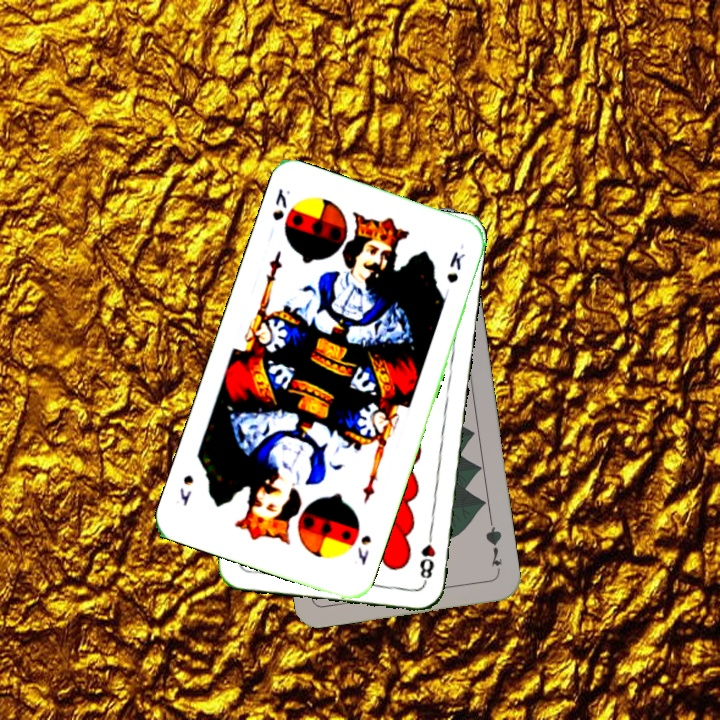G7: (481, 517, 505, 576)
H8: (416, 526, 438, 586)
SK: (268, 184, 293, 223), (353, 530, 374, 568)
